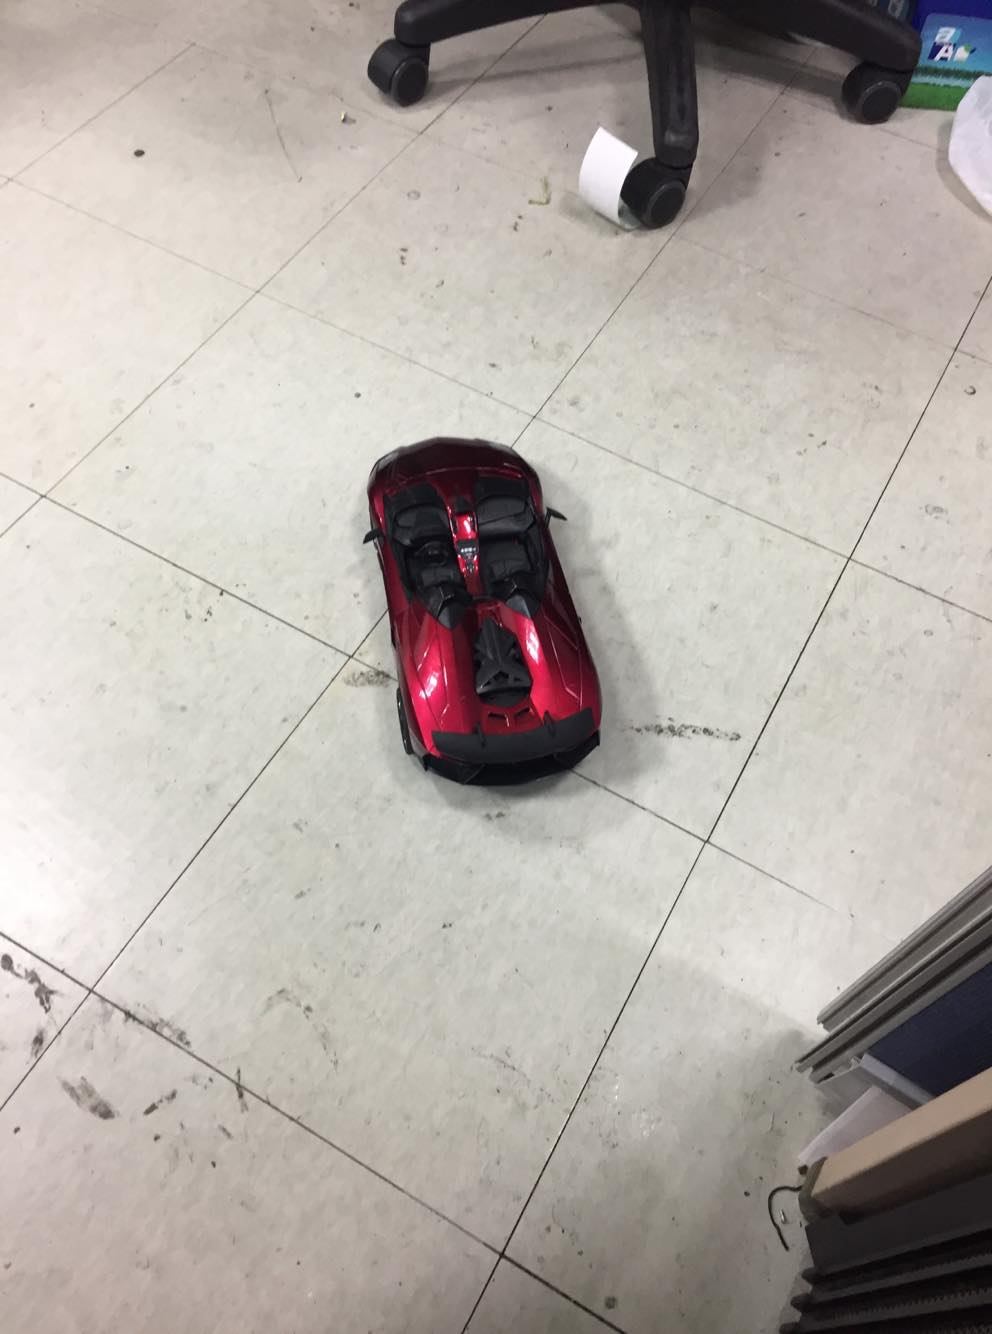car: (323, 421, 643, 806)
